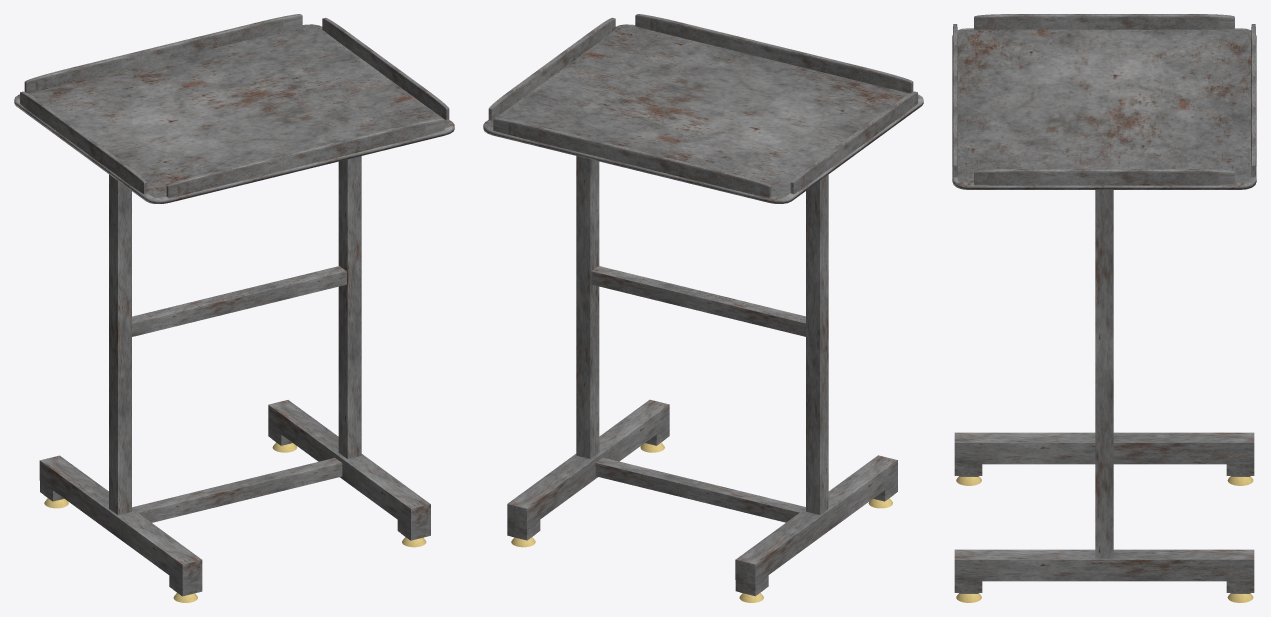
File: Small Medical Table (FBX) 1K.fbx
3 views of the same model, side by side, from view 1: azimuth 30°, elevation 25°; view 2: azimuth 150°, elevation 25°; view 3: azimuth 270°, elevation 25° (orthographic). The views are drawn at different scales.
Parts seen in each view (by area): view 1: Small Medical Table Main, Small Medical Table MetalRight, Small Medical Table MetalLeft, Small Medical Table LegRight, Small Medical Table LegLeft, Small Medical Table FenceBack, Small Medical Table BaseMiddle, Small Medical Table FenceFront, Small Medical Table BaseDown, Small Medical Table FenceRight, Small Medical Table FenceLeft; view 2: Small Medical Table Main, Small Medical Table MetalRight, Small Medical Table MetalLeft, Small Medical Table LegRight, Small Medical Table LegLeft, Small Medical Table FenceFront, Small Medical Table BaseMiddle, Small Medical Table FenceBack, Small Medical Table BaseDown, Small Medical Table FenceRight, Small Medical Table FenceLeft; view 3: Small Medical Table Main, Small Medical Table LegLeft, Small Medical Table LegRight, Small Medical Table MetalLeft, Small Medical Table FenceLeft, Small Medical Table FenceRight, Small Medical Table FenceFront, Small Medical Table FenceBack.
Part boxes in pixels (left/top/right/bottom): Small Medical Table Main: left=14, top=24, right=454, bottom=203; Small Medical Table MetalRight: left=109, top=174, right=131, bottom=514; Small Medical Table MetalLeft: left=338, top=156, right=361, bottom=458; Small Medical Table LegRight: left=39, top=455, right=202, bottom=596; Small Medical Table LegLeft: left=268, top=400, right=430, bottom=540; Small Medical Table FenceBack: left=166, top=118, right=444, bottom=197; Small Medical Table BaseMiddle: left=132, top=266, right=346, bottom=336; Small Medical Table FenceFront: left=24, top=14, right=302, bottom=93; Small Medical Table BaseDown: left=132, top=458, right=342, bottom=522; Small Medical Table FenceRight: left=20, top=91, right=146, bottom=194; Small Medical Table FenceLeft: left=322, top=17, right=449, bottom=120; Small Medical Table Main: left=483, top=24, right=923, bottom=203; Small Medical Table MetalRight: left=806, top=174, right=828, bottom=514; Small Medical Table MetalLeft: left=576, top=156, right=599, bottom=458; Small Medical Table LegRight: left=735, top=455, right=897, bottom=595; Small Medical Table LegLeft: left=507, top=399, right=669, bottom=540; Small Medical Table FenceFront: left=493, top=118, right=771, bottom=197; Small Medical Table BaseMiddle: left=591, top=266, right=805, bottom=336; Small Medical Table FenceBack: left=635, top=14, right=913, bottom=93; Small Medical Table BaseDown: left=595, top=457, right=805, bottom=522; Small Medical Table FenceRight: left=790, top=91, right=917, bottom=194; Small Medical Table FenceLeft: left=488, top=17, right=615, bottom=120; Small Medical Table Main: left=952, top=28, right=1256, bottom=189; Small Medical Table LegLeft: left=954, top=549, right=1254, bottom=592; Small Medical Table LegRight: left=954, top=432, right=1254, bottom=475; Small Medical Table MetalLeft: left=1095, top=190, right=1113, bottom=558; Small Medical Table FenceLeft: left=974, top=169, right=1234, bottom=185; Small Medical Table FenceRight: left=974, top=14, right=1234, bottom=29; Small Medical Table FenceFront: left=1251, top=24, right=1256, bottom=177; Small Medical Table FenceBack: left=952, top=24, right=957, bottom=177.
Size of the model in its own units: 96.39 by 128 by 78.74.
2 materials, 2 textured.
